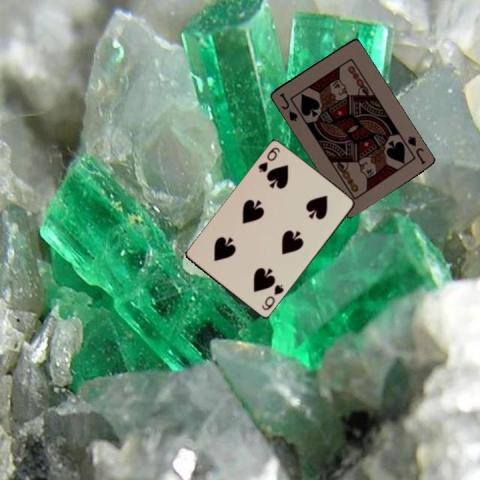6s: (255, 144, 282, 174), (259, 282, 285, 312)
Js: (276, 89, 299, 123), (404, 133, 427, 166)
